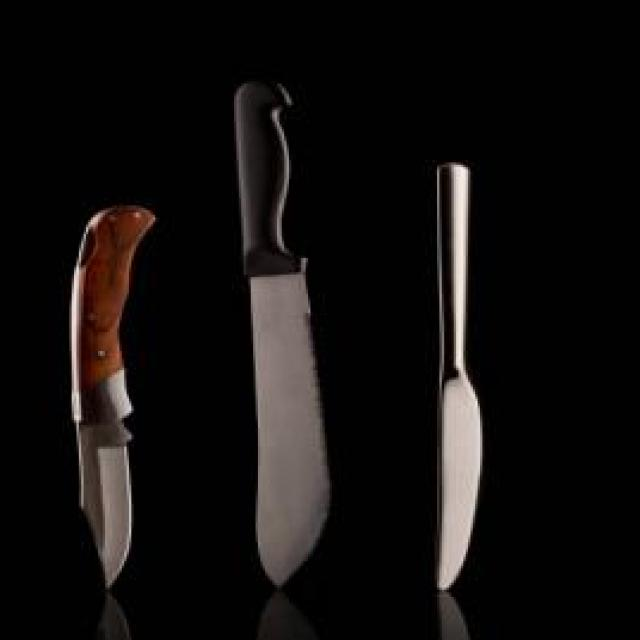knife: (229, 69, 332, 591), (72, 198, 161, 592), (428, 162, 483, 592)
